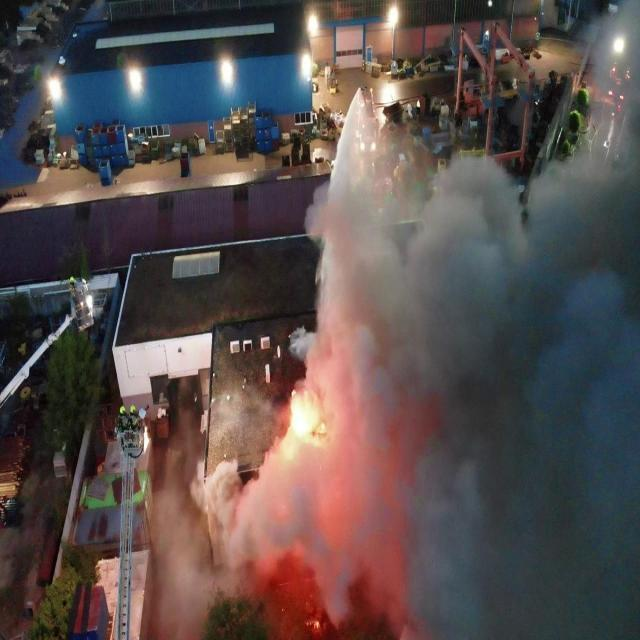Fire: (290, 393, 326, 438)
Smoke: (150, 0, 640, 640)
